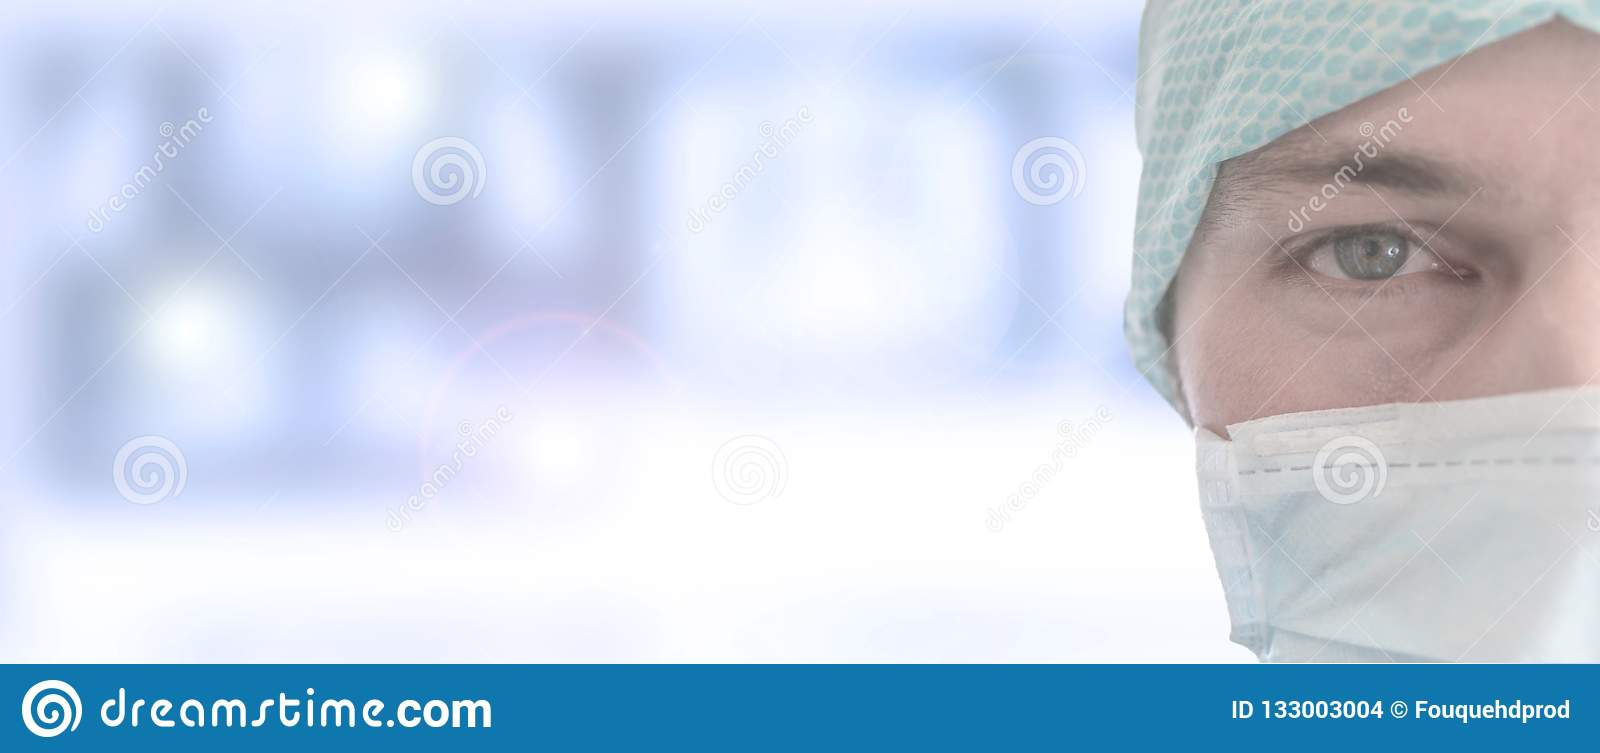mask: (1190, 399, 1600, 668)
